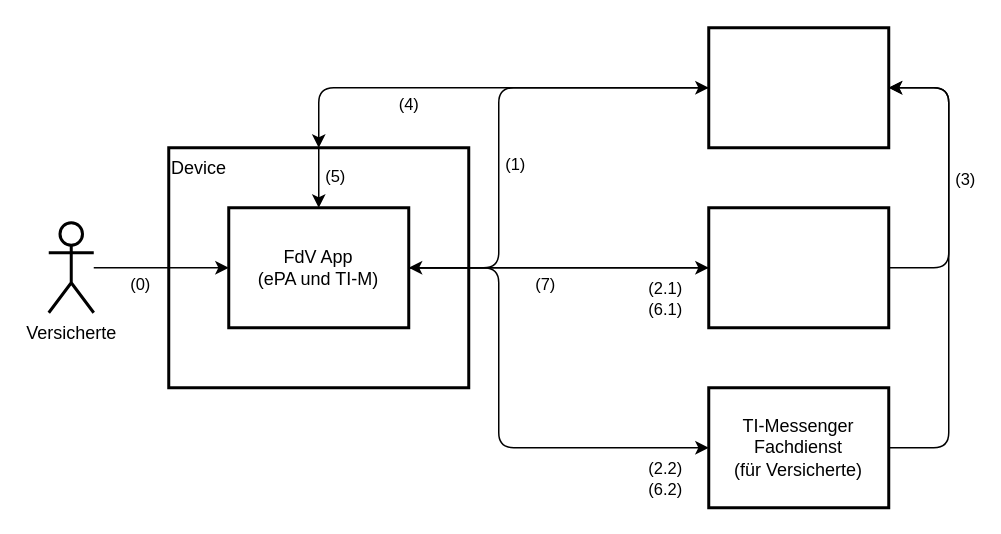
Image size: 1001x534. Some labels were removed from this diagram. The shapes that lost their labels are listed below. From the top down, each one's box as (x1, y1, x2, y2) in pixels, then its label:
(706, 26, 890, 148): Externer Push Dienst (z. B. FCM)
(706, 206, 890, 328): ePA Fachdienst
